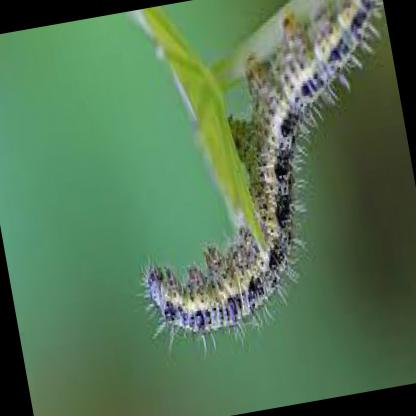pieris: (142, 0, 377, 341)
